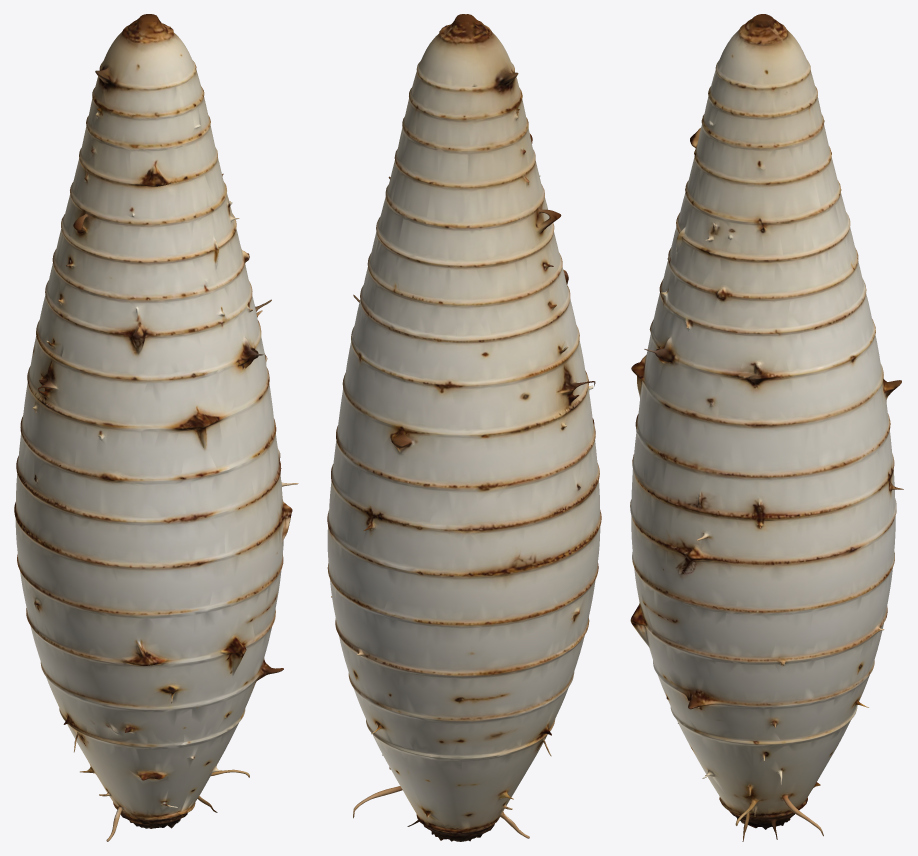
Rendered from baizhi.glb.
3 renders of one model, left to right at view 1: azimuth 30°, elevation 25°; view 2: azimuth 150°, elevation 25°; view 3: azimuth 270°, elevation 25°, orthographic. The views are drawn at different scales.
Parts seen in each view (by area): view 1: node_0; view 2: node_0; view 3: node_0.
Boxes of the visible parts, x1,y1,x2,y2 form: node_0: [14, 14, 298, 841]; node_0: [327, 14, 601, 841]; node_0: [630, 14, 903, 841].
Bounding box in the file's own units: 0.3727 × 1.19 × 0.3689.
1 material, 1 textured.
